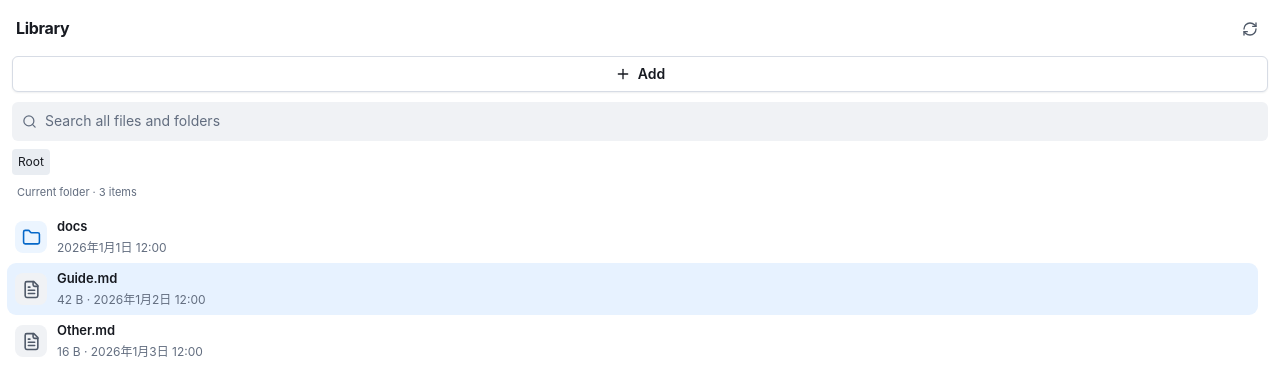
Scenario: LibrarySidebar upload lifecycle › exposes the current document and a clear search recovery action
Expected: the heading "Library" is shown, [16,16,69,42]
Type "missing" into the search field labelled "Search all files and folders" at (640, 121), box [12,102,1268,141]
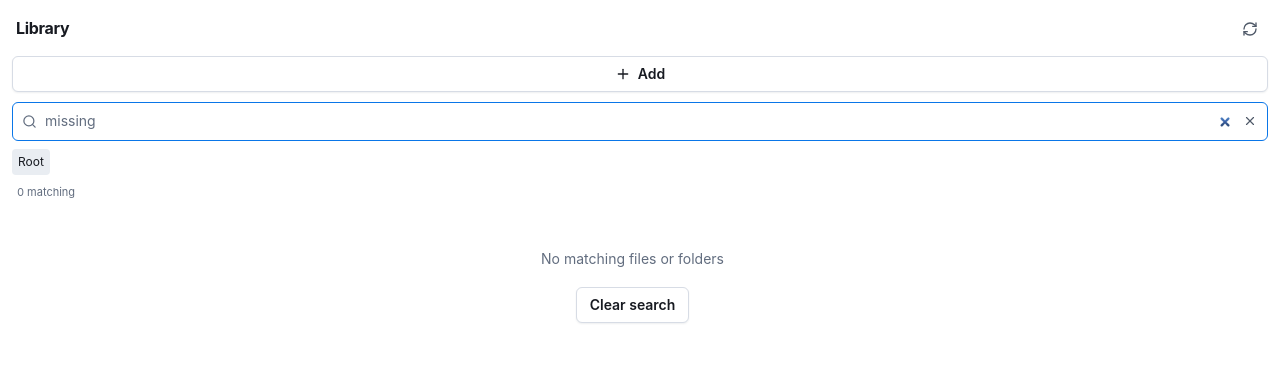
Expected: the text "No matching files or folders" is shown, [541,248,724,271]
Click the button named "Clear search" at (1250, 121), box [1234,105,1266,137]
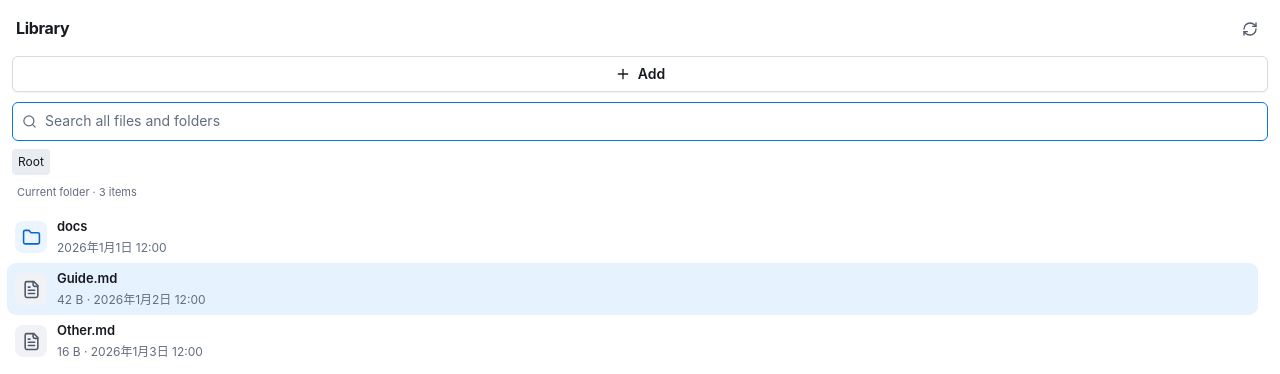
Expected: the search field labelled "Search all files and folders" is empty, [12,102,1268,141]
Expected: the text "Guide.md" is shown, [57,270,117,286]
